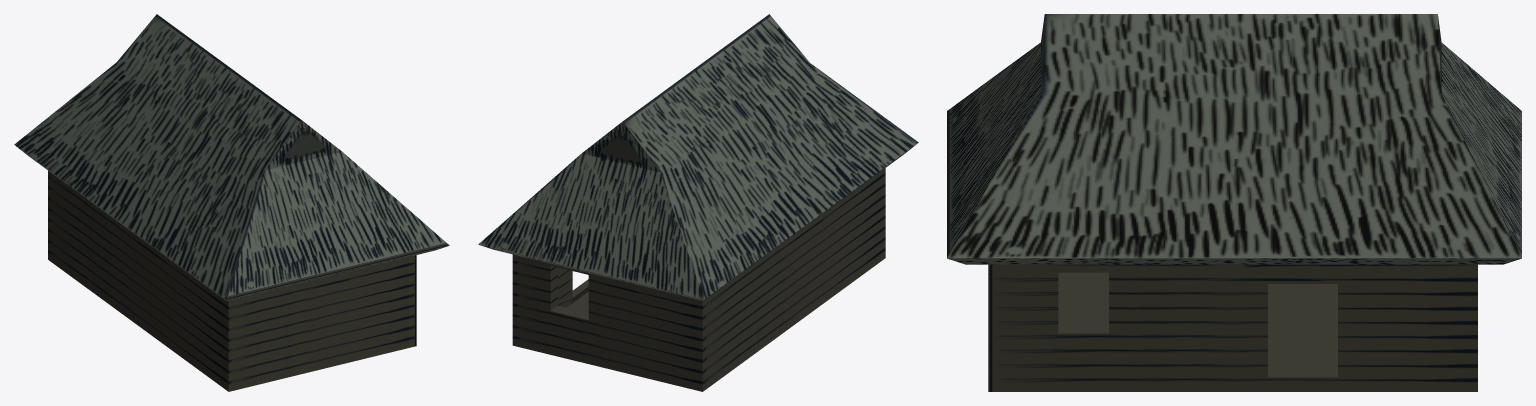
Rendered from tareke (1).fbx.
3 renders of one model, left to right at view 1: azimuth 30°, elevation 25°; view 2: azimuth 150°, elevation 25°; view 3: azimuth 270°, elevation 25°, orthographic. The views are drawn at different scales.
Visible parts, largest first — view 1: Cube; view 2: Cube; view 3: Cube.
Boxes of the visible parts, left/top/right/bottom form: Cube: left=14, top=14, right=449, bottom=391; Cube: left=478, top=14, right=918, bottom=391; Cube: left=947, top=14, right=1521, bottom=391.
Bounding box in the file's own units: 143 × 143 × 235.
Materials: 1 (1 with a texture image).
